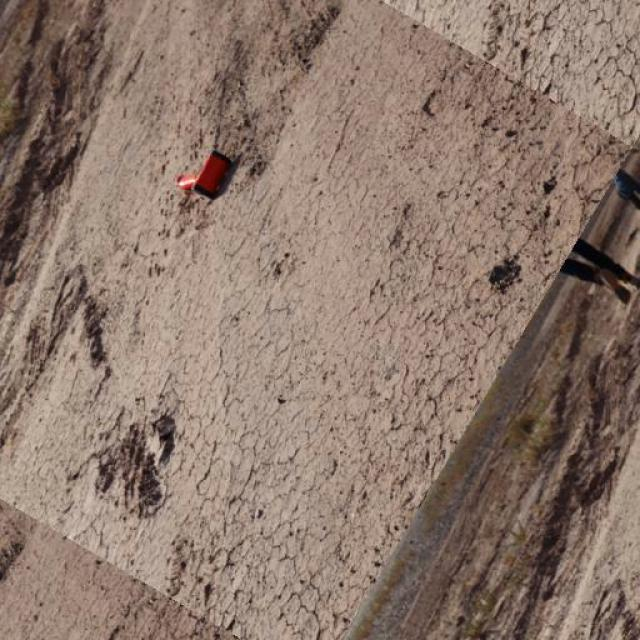mallet: (174, 148, 231, 198)
